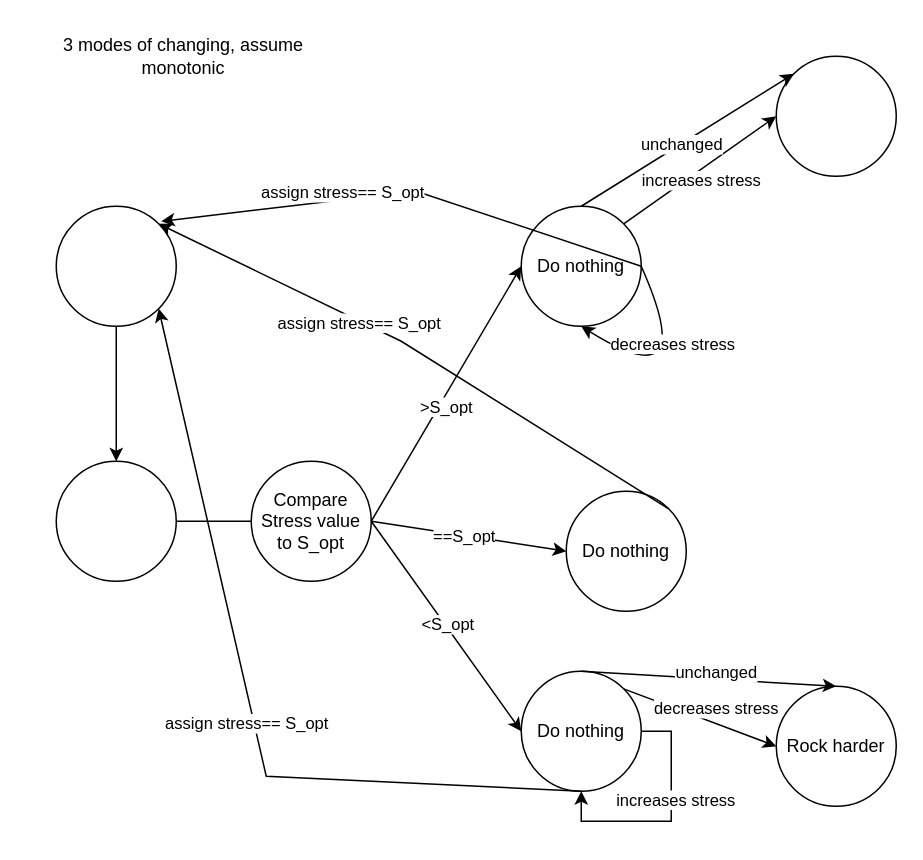
The diagram is 923 pixels wide and 860 high, and some of its shapes have lost their labels. Each missing label, with the centre of its shape:
"Rock softer" belongs at (835,115).
"Speculative S_opt=50" belongs at (115,265).
"Stress value" belongs at (115,520).
